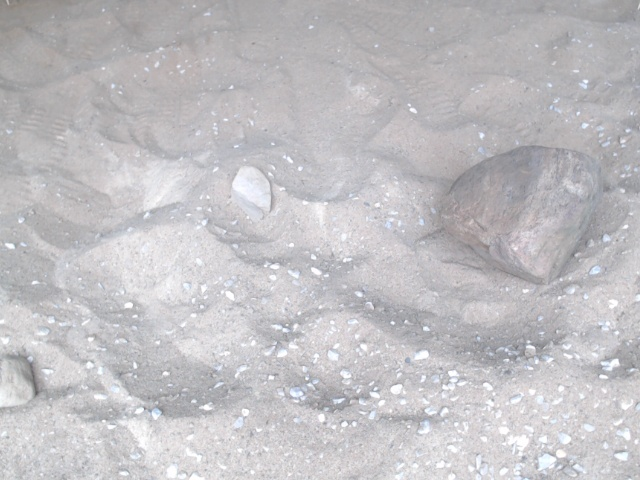rock: (431, 142, 606, 289), (227, 162, 277, 226), (1, 350, 41, 414)
